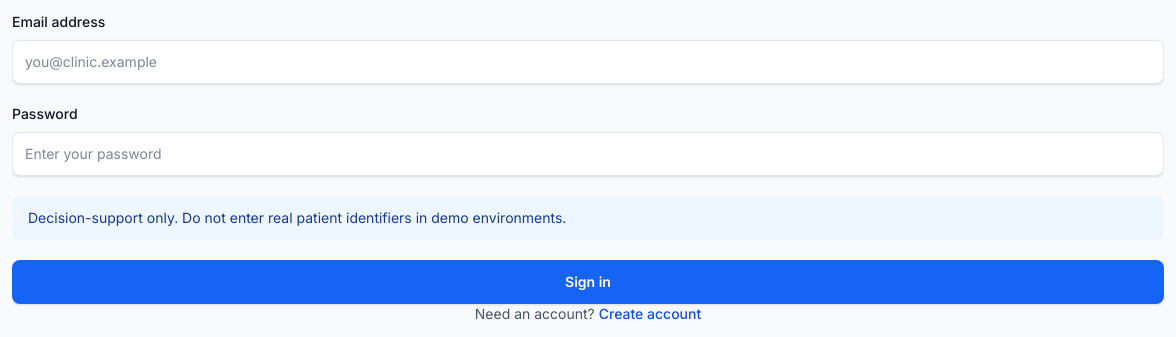
Test: LoginForm › shows API message for generic 403 without email_not_verified reason
Type "user@example.com" into the field labelled "Email address" at (588, 62), box [12, 40, 1164, 84]
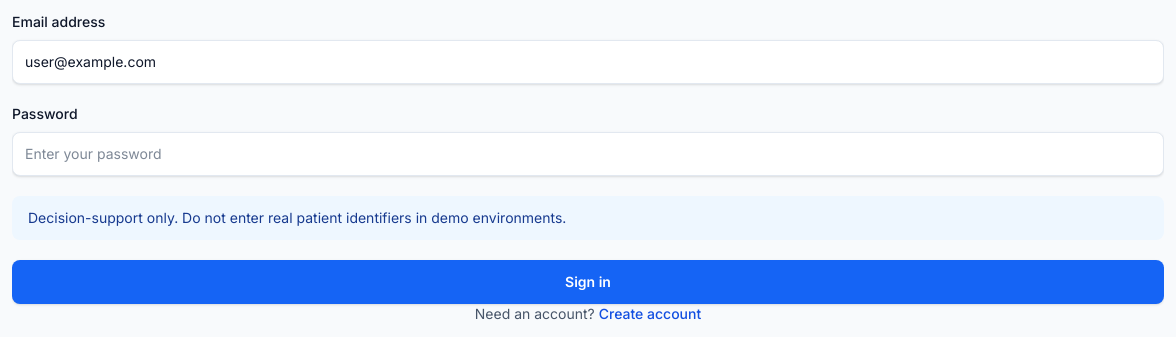
Type "securepass123" into the password field labelled "Password" at (588, 154), box [12, 132, 1164, 176]
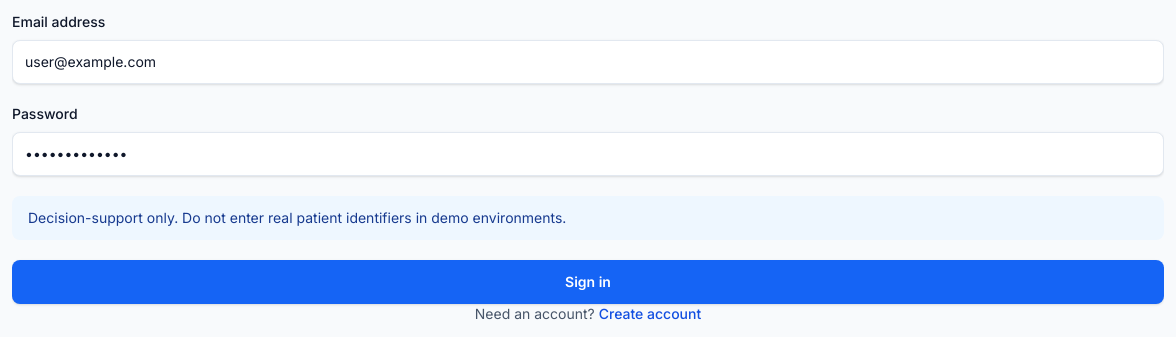
Click the button "Sign in" at (588, 282), box [12, 260, 1164, 304]
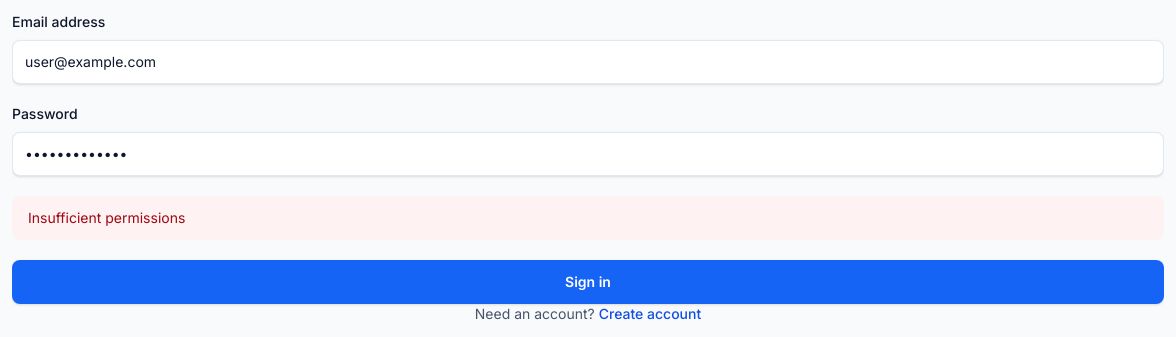
Expected: the message reads "Insufficient permissions", [28, 209, 185, 226]
